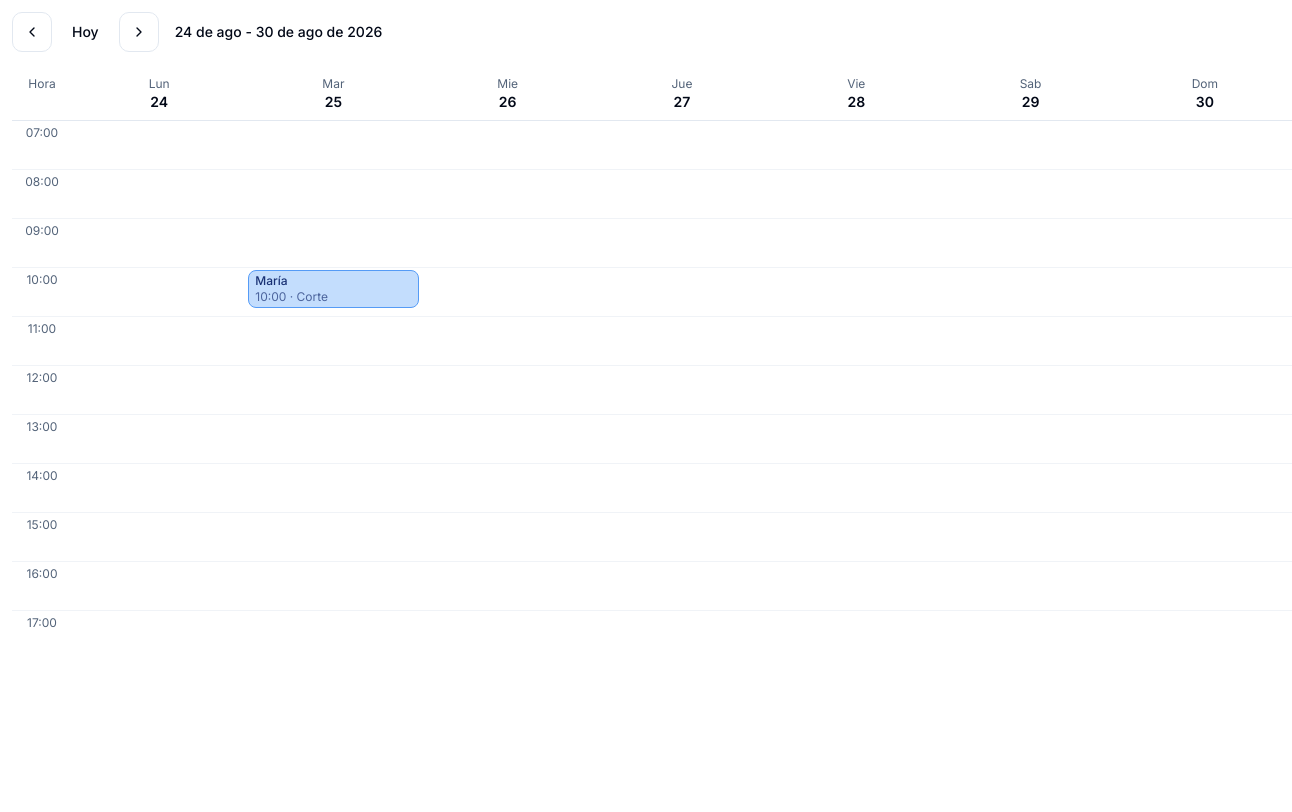
Test: CalendarView › sigue abriendo el detalle de la cita que se pulsa
The image size is (1292, 812).
Click the text "María" at {"x": 271, "y": 280}, box [255, 273, 288, 288]
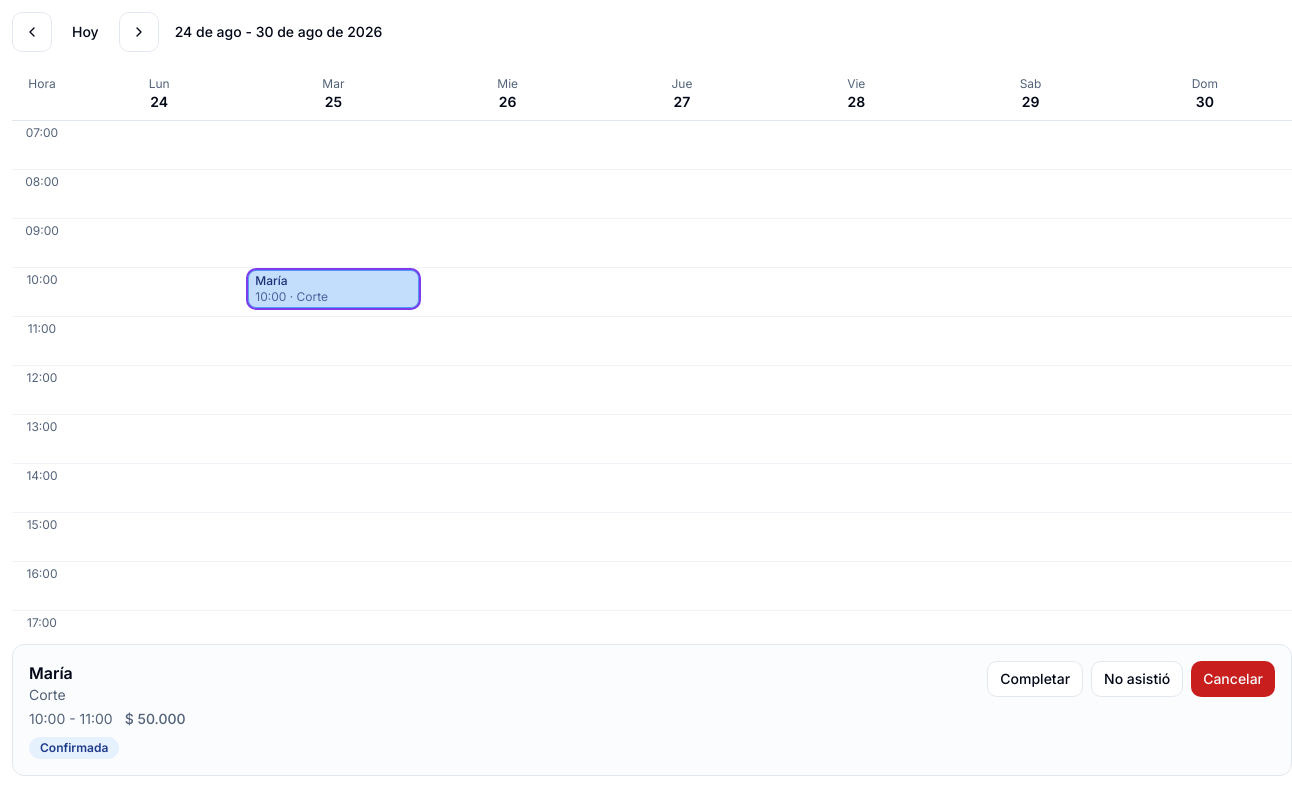
Expected: the text "Corte" is shown, [29, 686, 66, 703]
